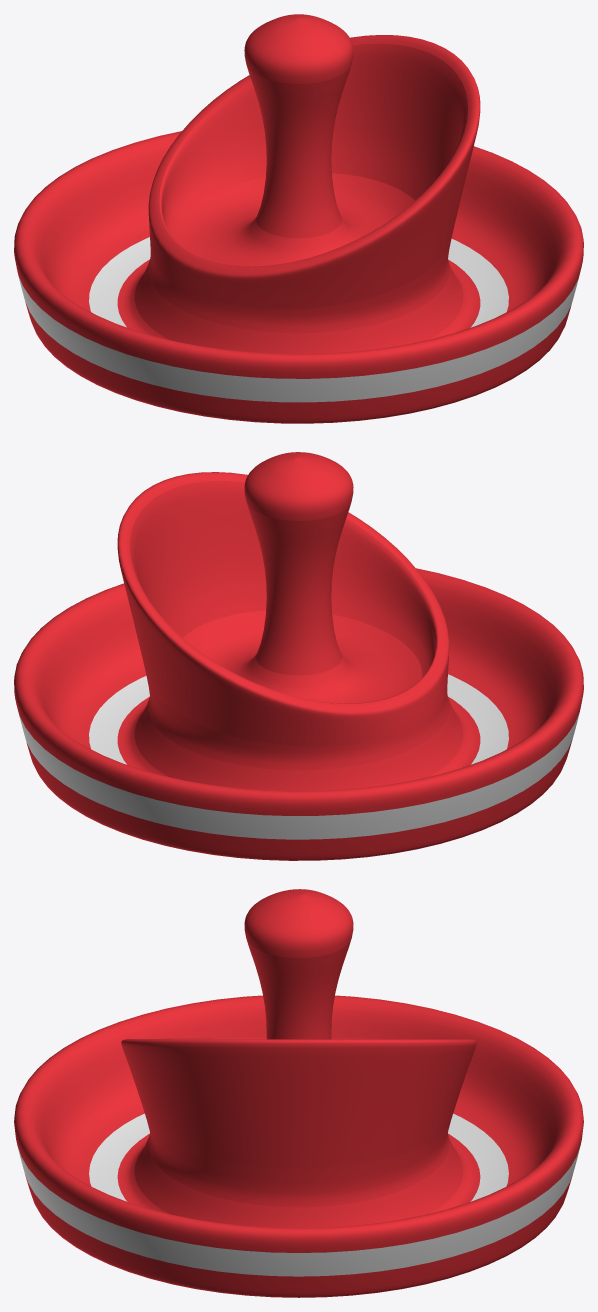
File: paddle.fbx
3 views of the same model, one above another, from view 1: azimuth 30°, elevation 25°; view 2: azimuth 150°, elevation 25°; view 3: azimuth 270°, elevation 25° (orthographic).
Visible parts, largest first — view 1: Ice Hookie paddle003; view 2: Ice Hookie paddle003; view 3: Ice Hookie paddle003.
Boxes of the visible parts, x1,y1,x2,y2 form: Ice Hookie paddle003: (14, 14, 583, 423); Ice Hookie paddle003: (14, 452, 583, 860); Ice Hookie paddle003: (14, 889, 583, 1297).
Size of the model in its own units: 309 by 176 by 309.
